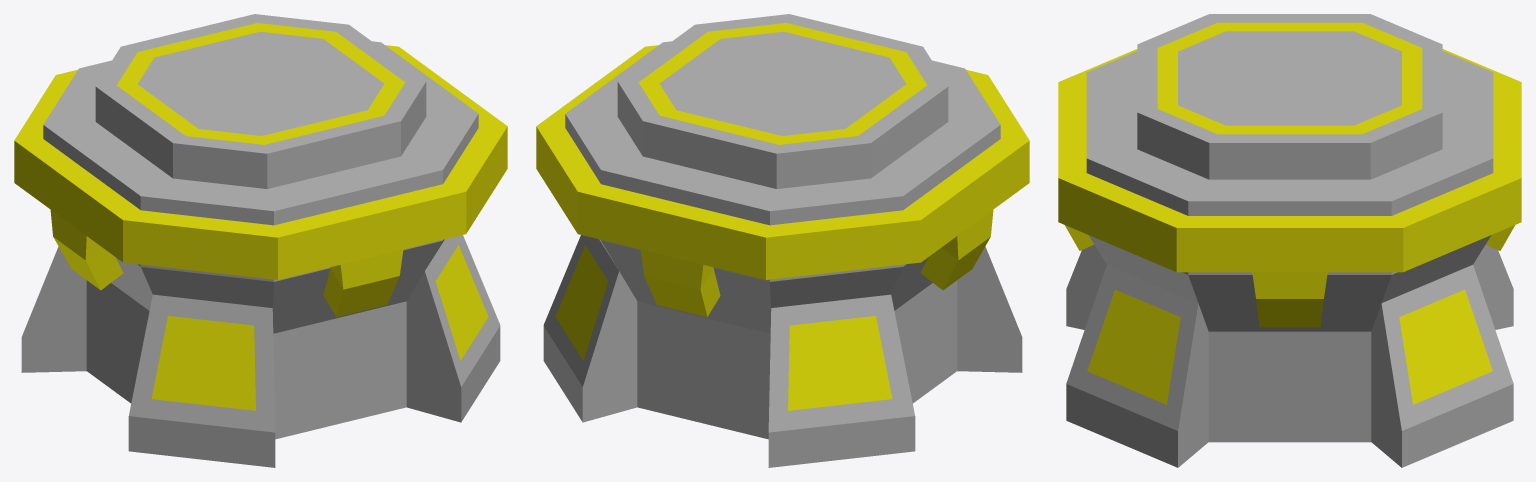
File: Archer Tower lev 4.2.fbx
3 renders of one model, left to right at view 1: azimuth 30°, elevation 25°; view 2: azimuth 150°, elevation 25°; view 3: azimuth 270°, elevation 25°, orthographic. The views are drawn at different scales.
Visible parts, largest first — view 1: Torre Wizzard.037; view 2: Torre Wizzard.037; view 3: Torre Wizzard.037.
Part boxes in pixels (<box>): Torre Wizzard.037: <box>14,14,507,467</box>; Torre Wizzard.037: <box>536,14,1029,467</box>; Torre Wizzard.037: <box>1058,14,1521,467</box>.
Size of the model in its own units: 11.39 by 8 by 11.39.
